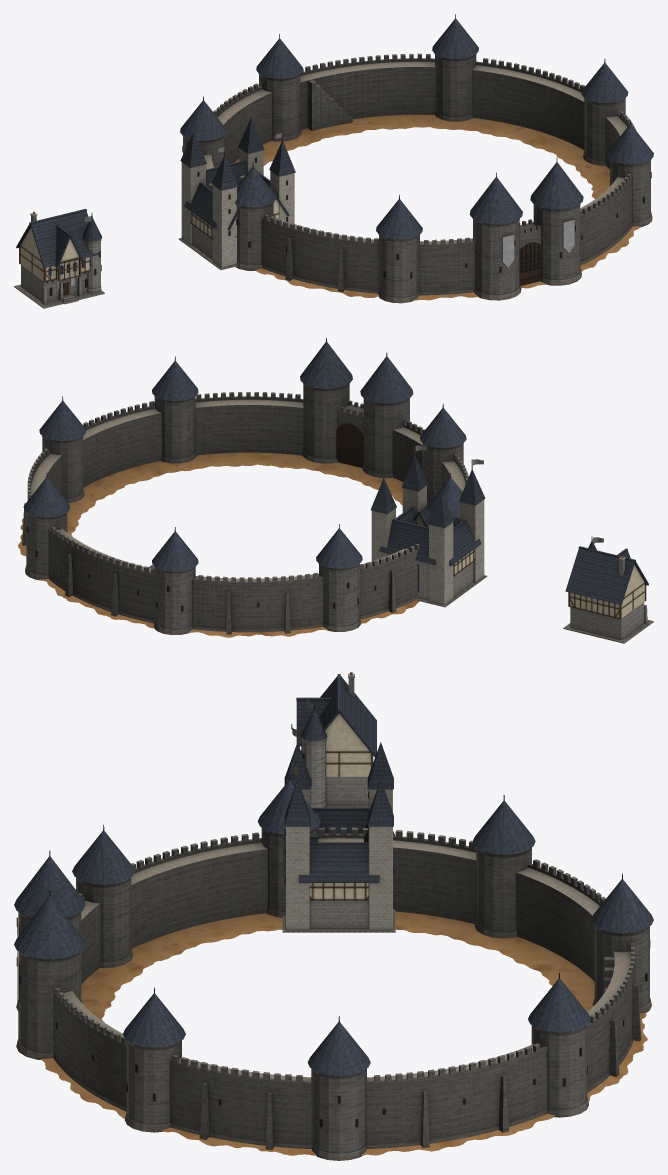
Rendered from shared-kingdoms-europe.glb.
The picture shows the model from 3 angles, top to bottom: view 1: azimuth 30°, elevation 25°; view 2: azimuth 150°, elevation 25°; view 3: azimuth 270°, elevation 25°; orthographic projection. The views are drawn at different scales.
Visible parts, largest first — view 1: LOD0.002, LOD0.001, LOD0; view 2: LOD0.002, LOD0.001, LOD0; view 3: LOD0.002, LOD0.001, LOD0.
Part boxes in pixels (box(x1,y1,x2,y2)): LOD0.002: box(180, 14, 653, 303); LOD0.001: box(178, 117, 295, 270); LOD0: box(14, 209, 104, 308); LOD0.002: box(18, 337, 468, 637); LOD0.001: box(370, 445, 487, 607); LOD0: box(563, 536, 653, 643); LOD0.002: box(14, 774, 653, 1160); LOD0.001: box(282, 724, 395, 932); LOD0: box(296, 672, 376, 807).
Size of what is drawn, in the model's own units: 9.96 by 1.93 by 6.92.
Materials: 3 (3 with a texture image).
